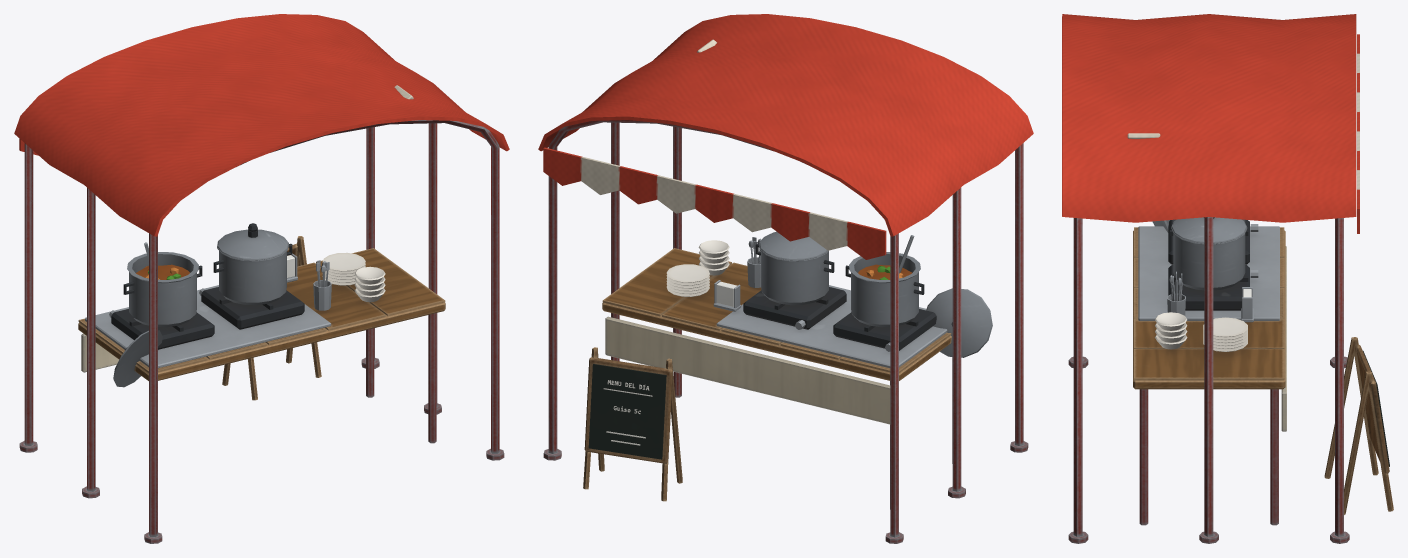
File: puesto_comida.fbx
The picture shows the model from 3 angles, left to right: view 1: azimuth 30°, elevation 25°; view 2: azimuth 150°, elevation 25°; view 3: azimuth 270°, elevation 25°; orthographic projection. The views are drawn at different scales.
Visible parts, largest first — view 1: puesto_comida; view 2: puesto_comida; view 3: puesto_comida.
Boxes of the visible parts, x1,y1,x2,y2 form: puesto_comida: (14, 14, 509, 543); puesto_comida: (538, 14, 1033, 543); puesto_comida: (1062, 14, 1393, 543).
Size of the model in its own units: 3.98 by 3.98 by 3.05.
Materials: 2 (1 with a texture image).
